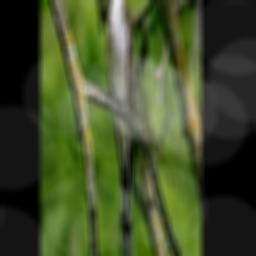Cuckoo: (102, 0, 136, 256)
